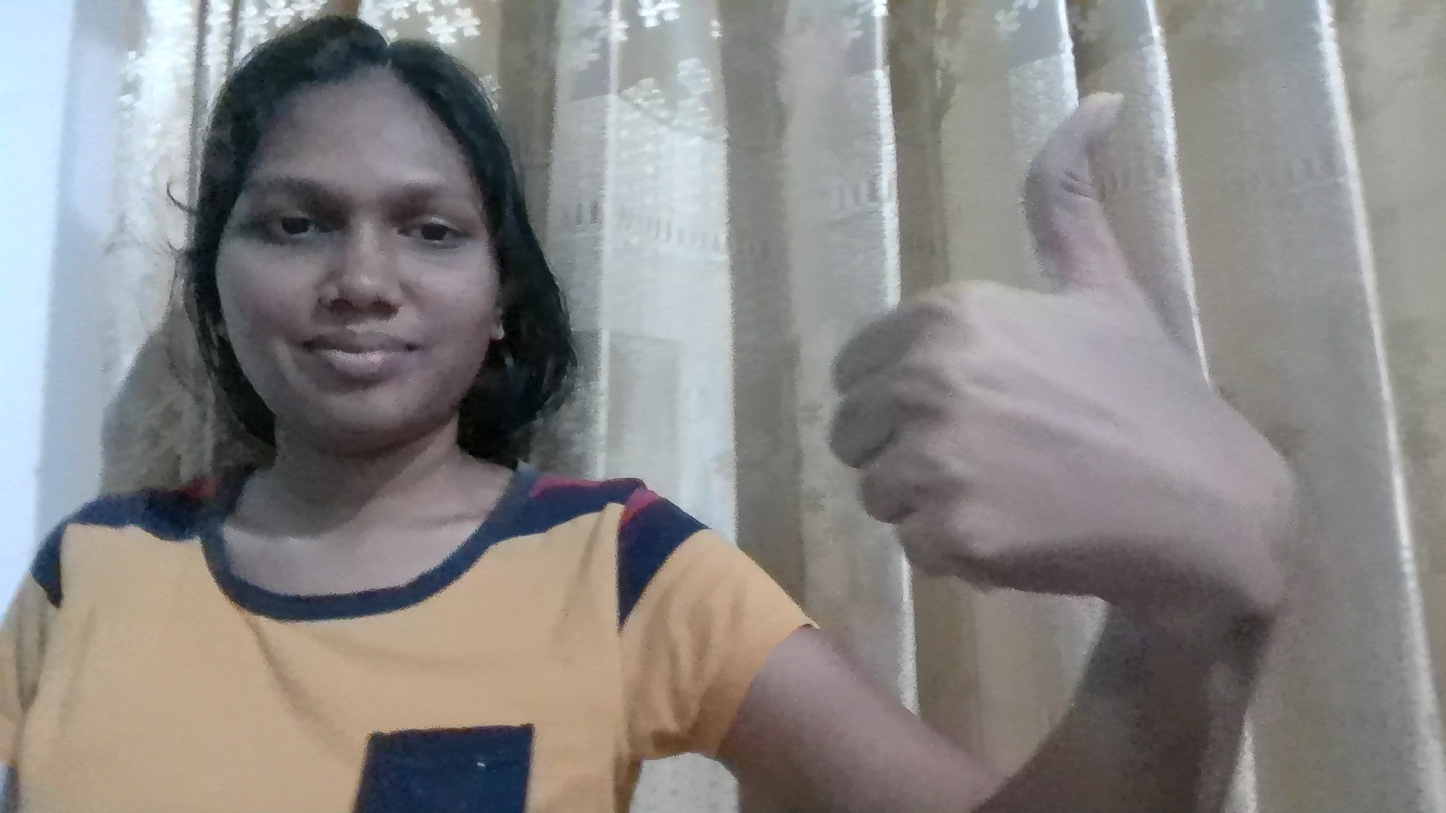Thumbs Up: (834, 56, 1351, 678)
